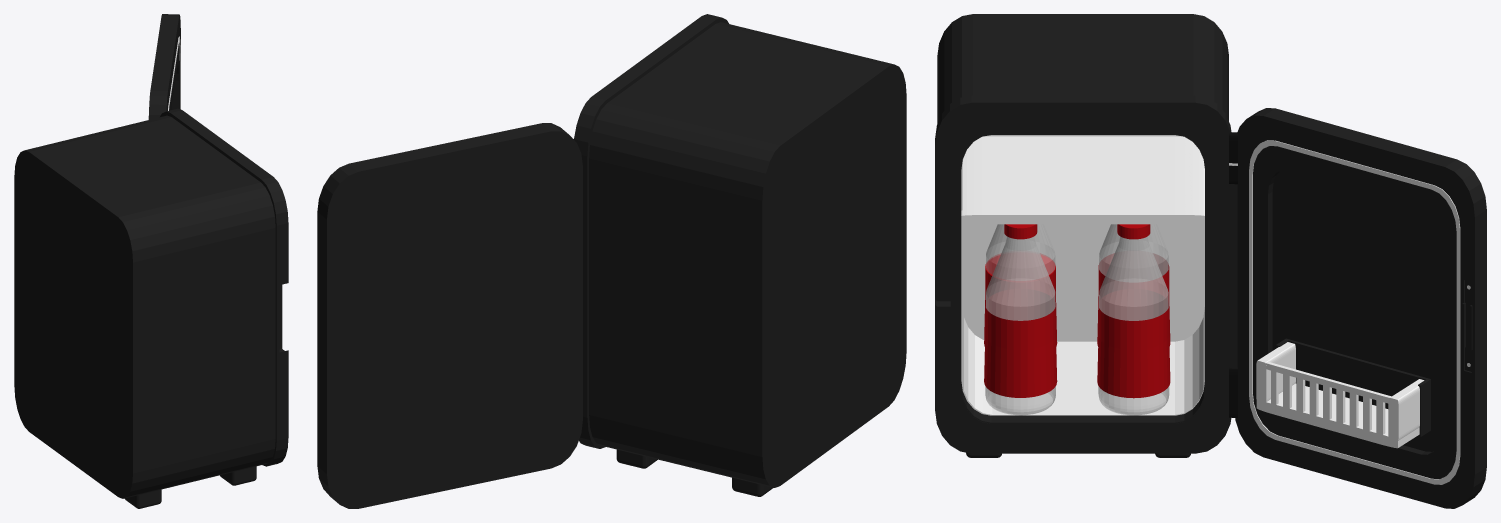
The model's file is mini_fridge.glb.
The picture shows the model from 3 angles, left to right: view 1: azimuth 30°, elevation 25°; view 2: azimuth 150°, elevation 25°; view 3: azimuth 270°, elevation 25°; orthographic projection. The views are drawn at different scales.
Visible parts, largest first — view 1: fridge, outline, Cube.003, Cube.016, Cube.017; view 2: fridge, Cube.003, outline; view 3: Cube.003, outline, fridge, fridge.001, shelf, Cylinder.021, Cylinder.016, Cylinder.019, Cylinder.018, Cube.008, Cube.011, Cube.009 (+9 smaller).
Part boxes in pixels (x1,y1,x2,y2): fridge: [14, 115, 284, 498]; outline: [160, 108, 288, 466]; Cube.003: [148, 14, 180, 119]; Cube.016: [220, 466, 256, 485]; Cube.017: [124, 489, 161, 508]; fridge: [589, 22, 906, 487]; Cube.003: [317, 123, 582, 508]; outline: [574, 14, 728, 448]; Cube.003: [1235, 108, 1486, 508]; outline: [935, 95, 1231, 453]; fridge: [937, 14, 1228, 423]; fridge.001: [961, 135, 1204, 415]; shelf: [961, 136, 1204, 224]; Cylinder.021: [1097, 289, 1170, 398]; Cylinder.016: [984, 289, 1057, 397]; Cylinder.019: [1098, 236, 1169, 415]; Cylinder.018: [985, 236, 1055, 415]; Cube.008: [1249, 140, 1460, 484]; Cube.011: [1265, 361, 1391, 443]; Cube.009: [1287, 339, 1427, 408].
Size of the model in its own units: 4.82 by 5.05 by 6.88.
